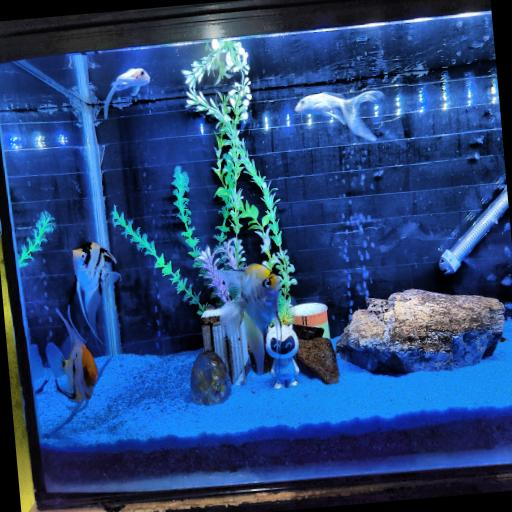Fish: (217, 264, 280, 374), (70, 243, 120, 340), (46, 311, 98, 402), (295, 91, 384, 140), (104, 68, 150, 119)
